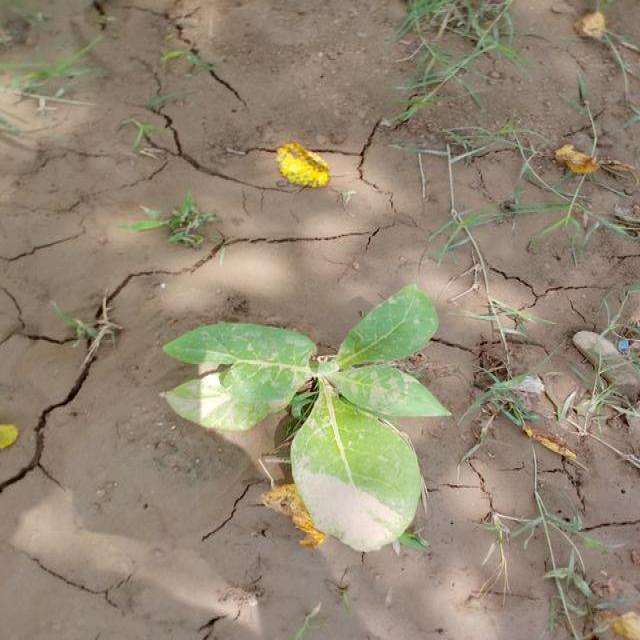crop: (182, 289, 440, 549)
